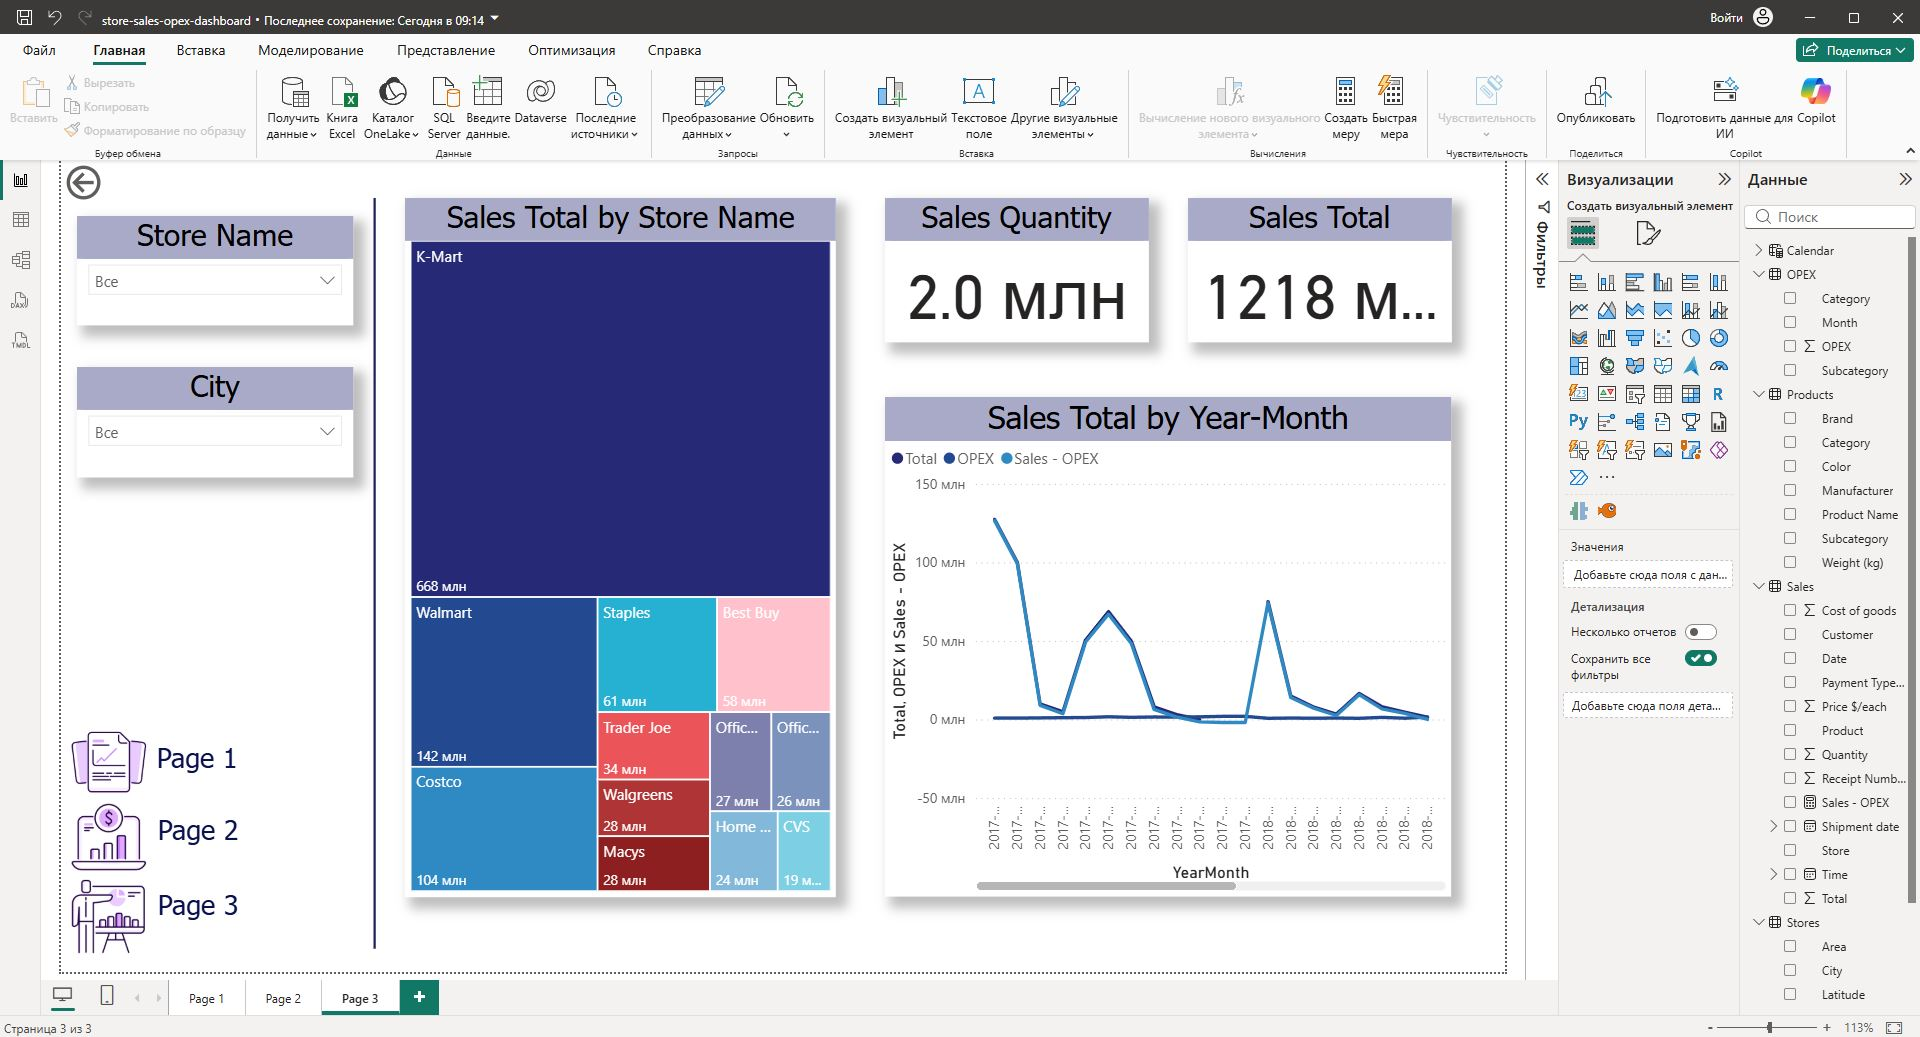

The page's visual inventory and layout, read from the dashboard file:
{"tool":"powerbi","page":{"name":"Page 3","canvas":[1280,720],"ordinal":2},"visuals":[{"type":"card","title":"Sales Total","fields":{"Values":["Sum(Sales.Total)"]},"box":[999.5,33.9,233.5,128.3],"z":0},{"type":"card","title":"Sales Quantity","fields":{"Values":["Sum(Sales.Quantity)"]},"box":[730.9,33.9,233.5,128.3],"z":1000},{"type":"slicer","title":"Store Name","fields":{"Values":["Stores.Store Name"]},"box":[14.5,162.2,244.4,96.8],"z":2000},{"type":"slicer","title":"City","fields":{"Values":["Stores.City"]},"box":[14.5,286.8,244.4,96.8],"z":3000},{"type":"shape","box":[240.8,33.9,73.8,665.5],"z":4000},{"type":"image","box":[4.8,20.6,159.7,128.3],"z":5000},{"type":"textbox","box":[50.8,84.7,254.1,87.1],"z":6000},{"type":"lineChart","title":"Sales Total by Year-Month","fields":{"Category":["Calendar.YearMonth"],"Y":["Sum(Sales.Total)","Sum(OPEX.OPEX)","Sales.Sales - OPEX"]},"box":[730.9,210.6,502.2,442.9],"z":7000},{"type":"actionButton","box":[0,0,100,40],"z":8000},{"type":"image","box":[4.8,493.7,76.2,79.9],"z":9000},{"type":"image","box":[4.8,560.3,76.2,79.9],"z":10000},{"type":"image","box":[4.8,631.7,75,79.9],"z":11000},{"type":"textbox","box":[79.9,509.4,159.7,50.8],"z":12000},{"type":"textbox","box":[81.1,573.6,159.7,50.8],"z":13000},{"type":"textbox","box":[81.1,640.1,159.7,50.8],"z":14000},{"type":"treemap","title":"Sales Total by Store Name","fields":{"Group":["Stores.Store Name"],"Values":["Sum(Sales.Total)"]},"box":[304.9,33.9,382.4,619.6],"z":15000}]}

Visuals, with their boxes on the page's 1280x720 design canvas (x1, y1, x2, y2). These are canvas units, not pixel positions in the 1920x1037 screenshot, which may show the page scaled, cropped or inside an application window:
"Sales Total" card: (x1=1000, y1=34, x2=1233, y2=162)
"Sales Quantity" card: (x1=731, y1=34, x2=964, y2=162)
"Store Name" slicer: (x1=14, y1=162, x2=259, y2=259)
"City" slicer: (x1=14, y1=287, x2=259, y2=384)
shape: (x1=241, y1=34, x2=315, y2=699)
image: (x1=5, y1=21, x2=164, y2=149)
textbox: (x1=51, y1=85, x2=305, y2=172)
"Sales Total by Year-Month" lineChart: (x1=731, y1=211, x2=1233, y2=654)
actionButton: (x1=0, y1=0, x2=100, y2=40)
image: (x1=5, y1=494, x2=81, y2=574)
image: (x1=5, y1=560, x2=81, y2=640)
image: (x1=5, y1=632, x2=80, y2=712)
textbox: (x1=80, y1=509, x2=240, y2=560)
textbox: (x1=81, y1=574, x2=241, y2=624)
textbox: (x1=81, y1=640, x2=241, y2=691)
"Sales Total by Store Name" treemap: (x1=305, y1=34, x2=687, y2=654)
